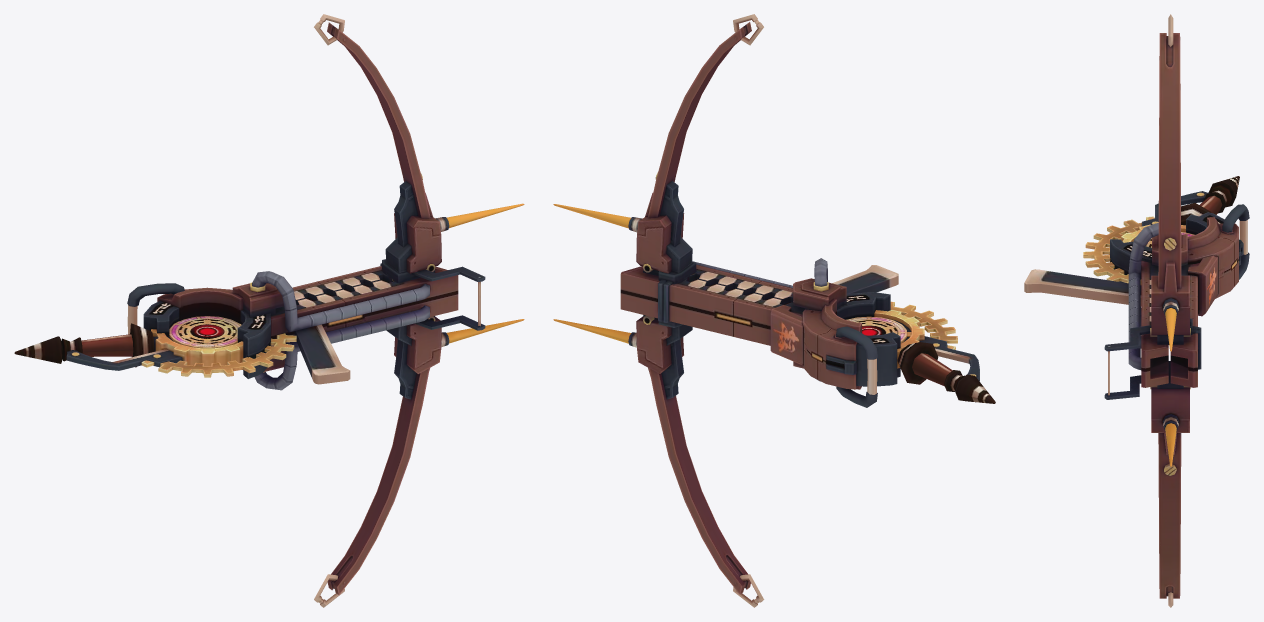
File: bow_m_ooparts_bow_ooparts_bow_earth_s.glb
3 views of the same model, side by side, from view 1: azimuth 30°, elevation 25°; view 2: azimuth 150°, elevation 25°; view 3: azimuth 270°, elevation 25° (orthographic).
Size of the model in its own units: 0.8442 by 1.01 by 0.3458.
1 material, 1 textured.
